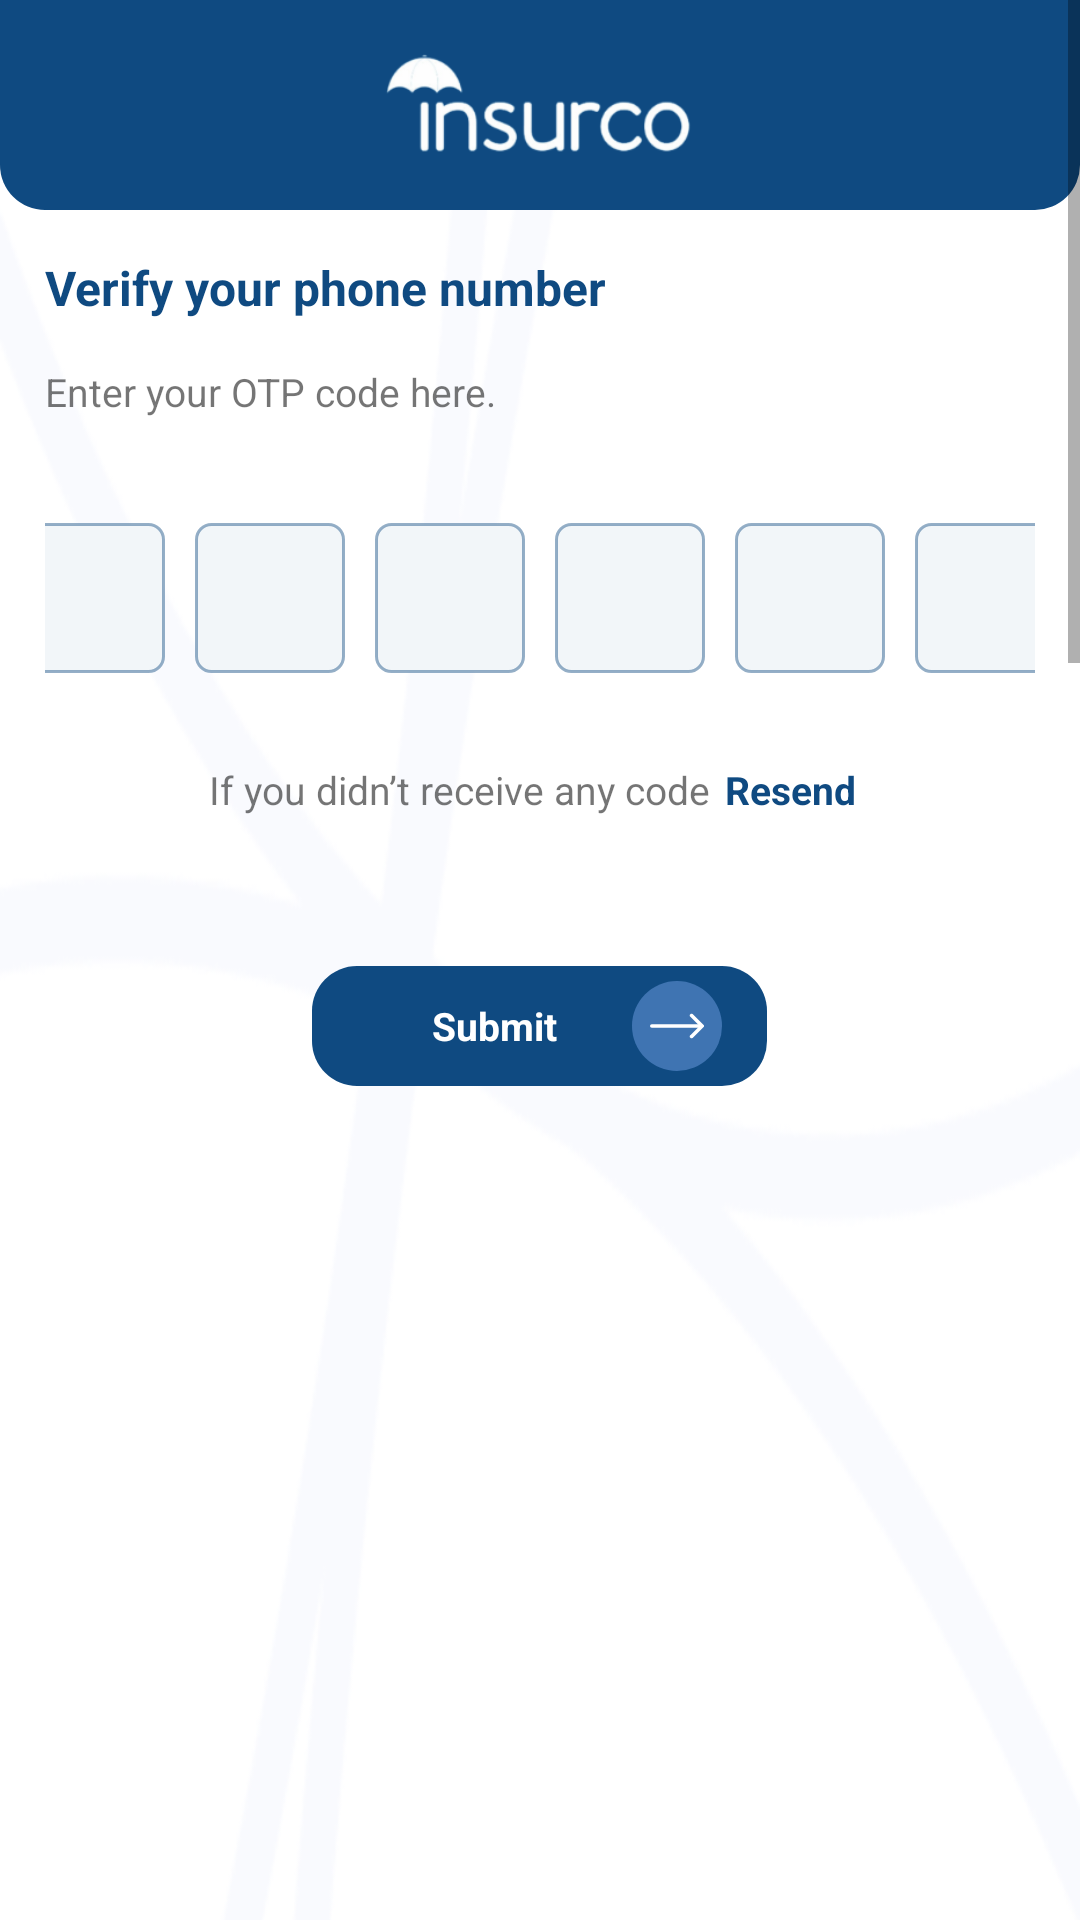

Screen size 1080 x 1920. Icon name, then its box in pixels as (x1, y1, x2, y2):
next: (632, 981, 722, 1071)
